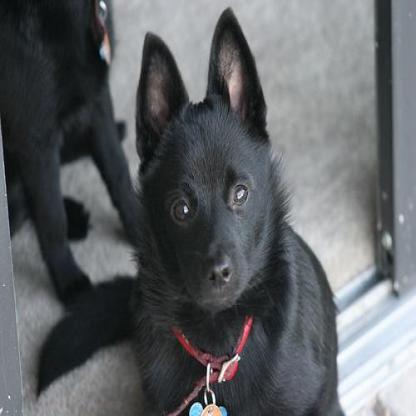schipperke: (34, 5, 343, 413), (0, 0, 150, 327)
